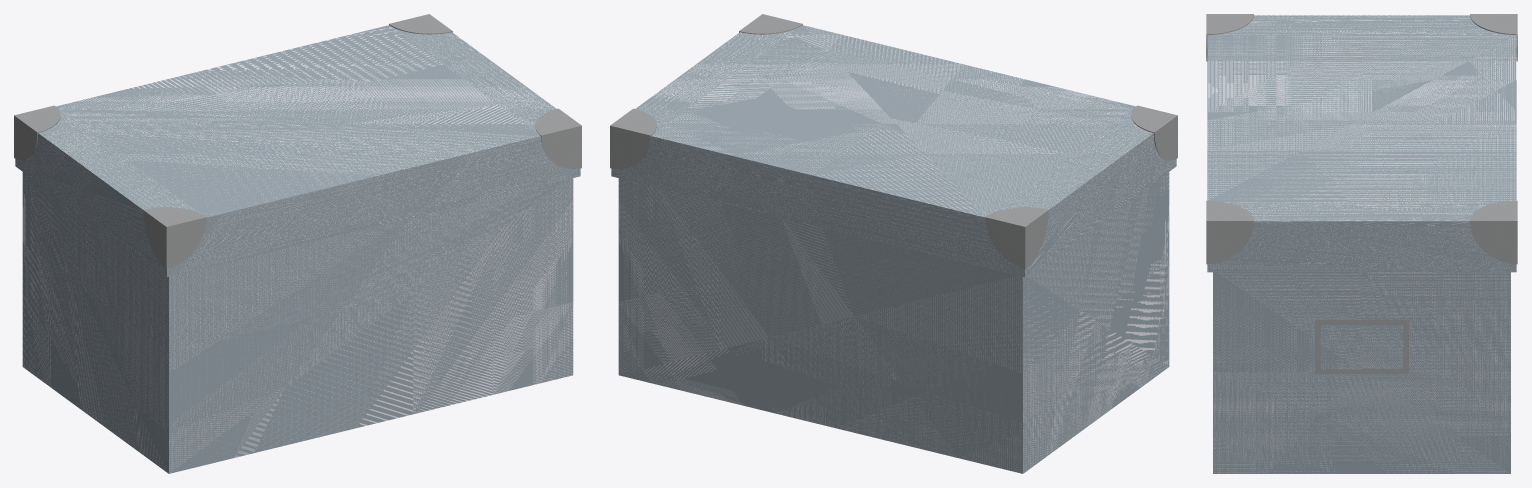
The model's file is Whitebox.fbx.
The picture shows the model from 3 angles, left to right: view 1: azimuth 30°, elevation 25°; view 2: azimuth 150°, elevation 25°; view 3: azimuth 270°, elevation 25°; orthographic projection. The views are drawn at different scales.
Visible parts, largest first — view 1: Component_2_1; view 2: Component_2_1; view 3: Component_2_1.
Boxes of the visible parts, x1=… form: Component_2_1: x1=14, y1=14, x2=581, y2=473; Component_2_1: x1=610, y1=14, x2=1177, y2=473; Component_2_1: x1=1206, y1=14, x2=1517, y2=473.
Size of the model in its own units: 1375 by 793 by 875.
